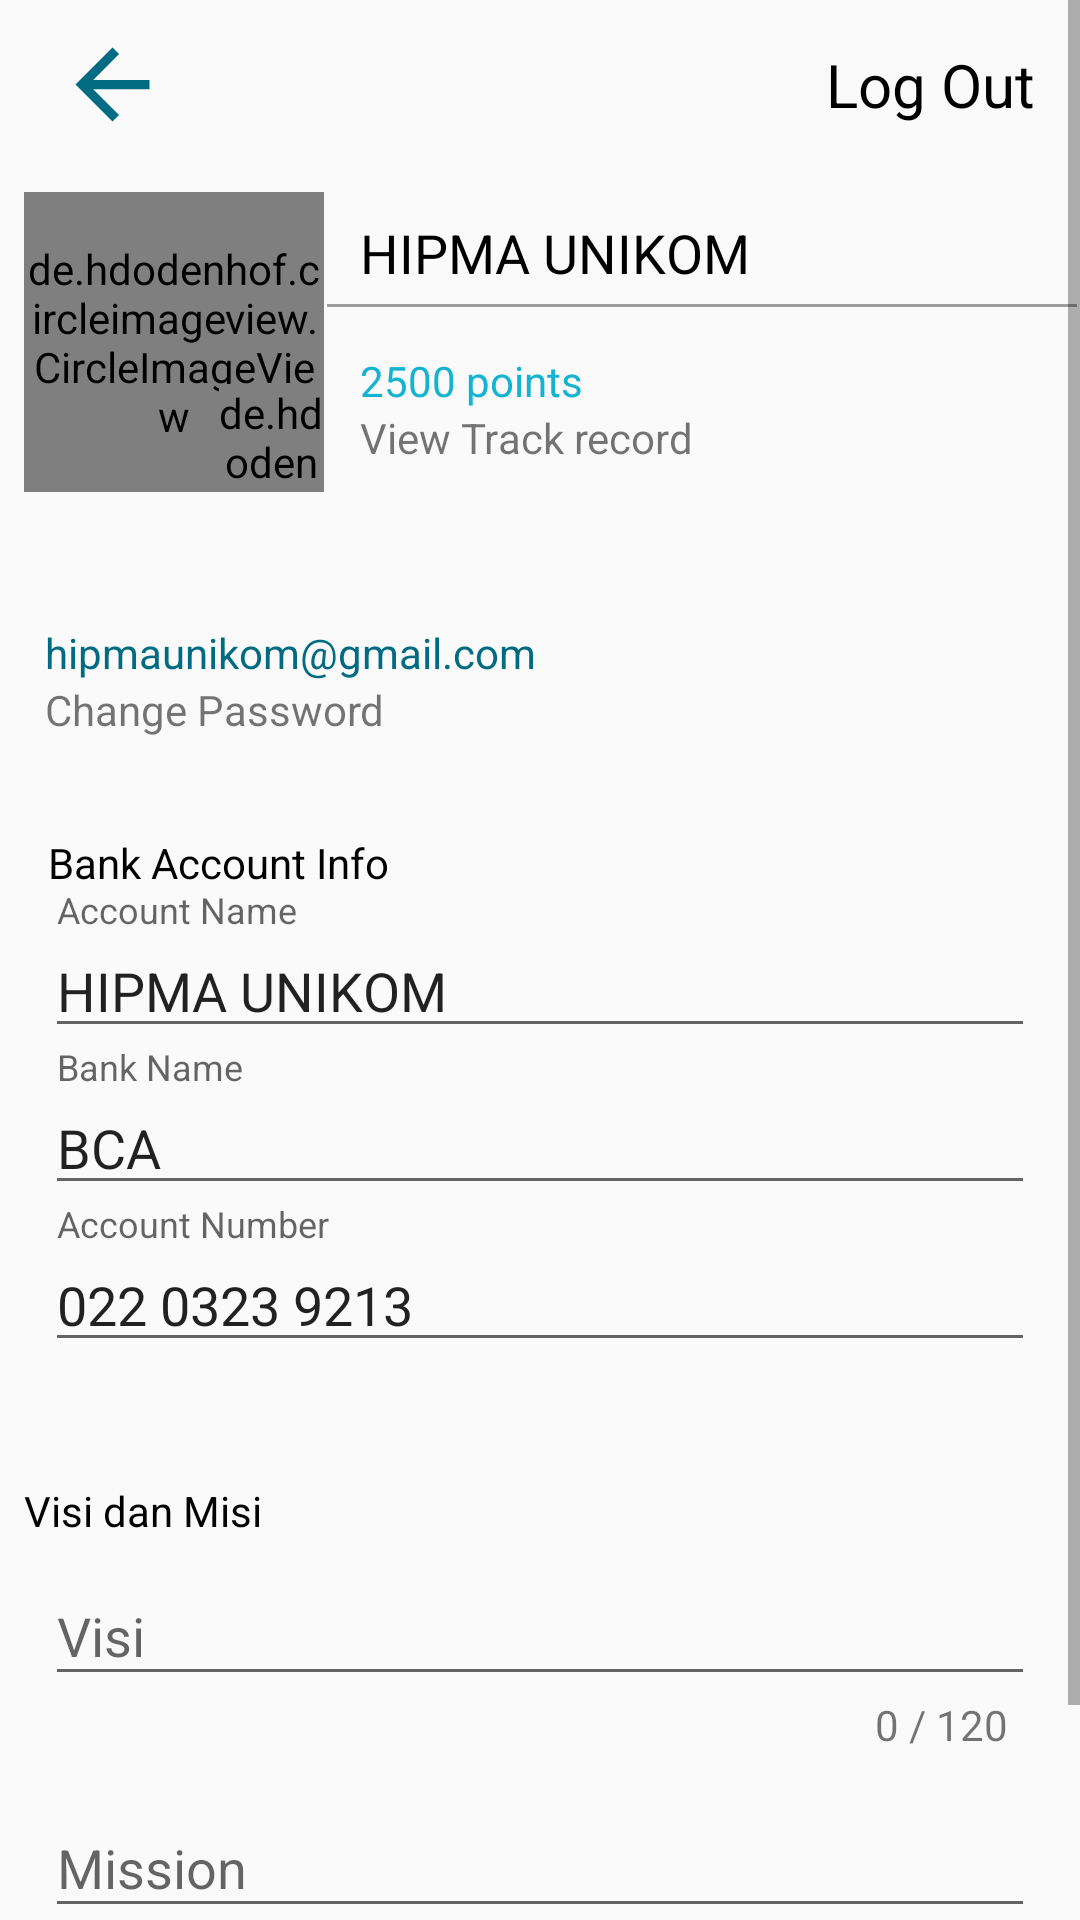

Where icons sit on this 1080 x 1920 app screen, as box(x1, y1, x2, y2):
arrow back: box(75, 47, 150, 122)
